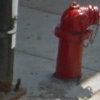Hydrant: (43, 3, 100, 79)
